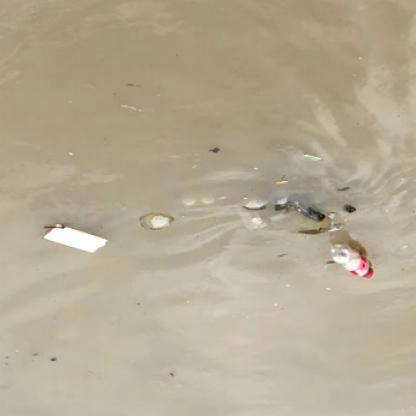Plastic: (325, 241, 375, 281)
Trash: (42, 219, 109, 257)
